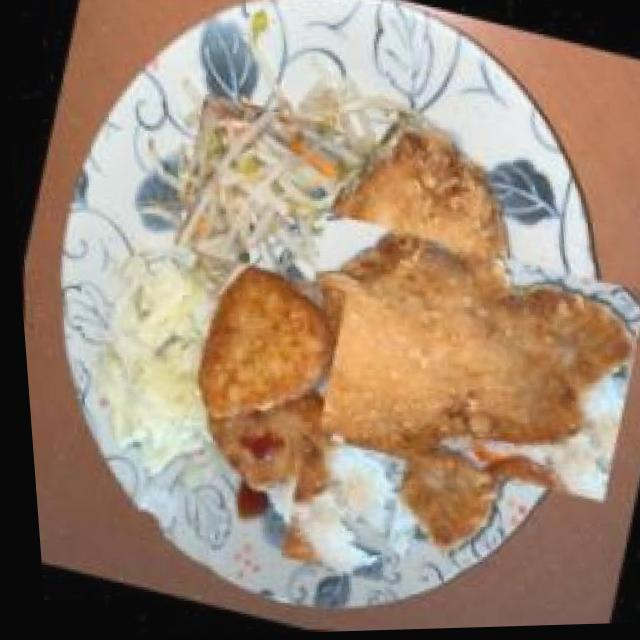chinese_cabbage: (70, 245, 226, 484)
fried_chicken: (228, 156, 633, 548)
mung_bean_sprouts: (159, 87, 355, 289)
rice: (259, 434, 412, 583)
triangle_hash_brown: (170, 257, 358, 506)
